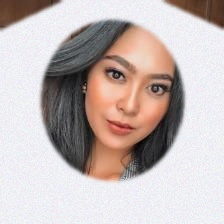Mukena: (0, 28, 224, 224)
